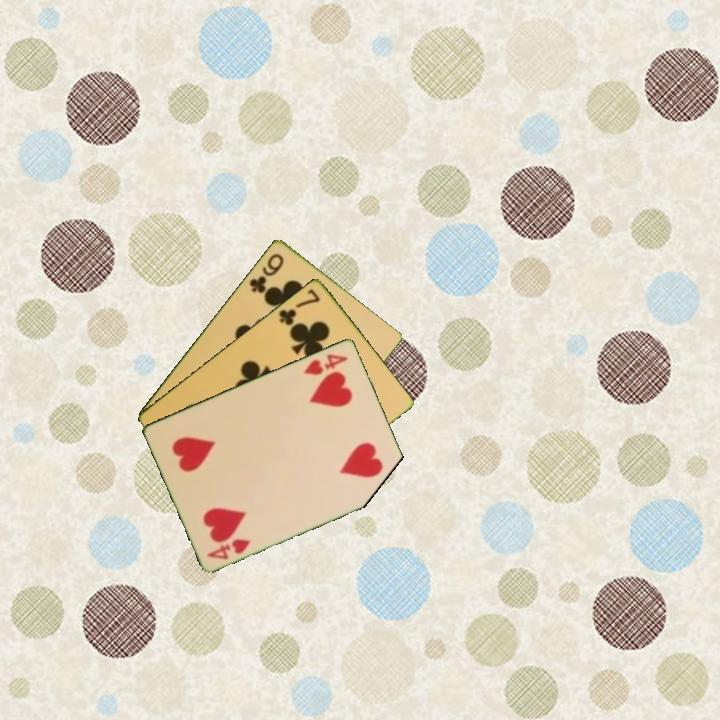4h: (300, 350, 351, 378), (203, 535, 254, 562)
7c: (275, 285, 323, 328)
9c: (245, 249, 287, 296)
